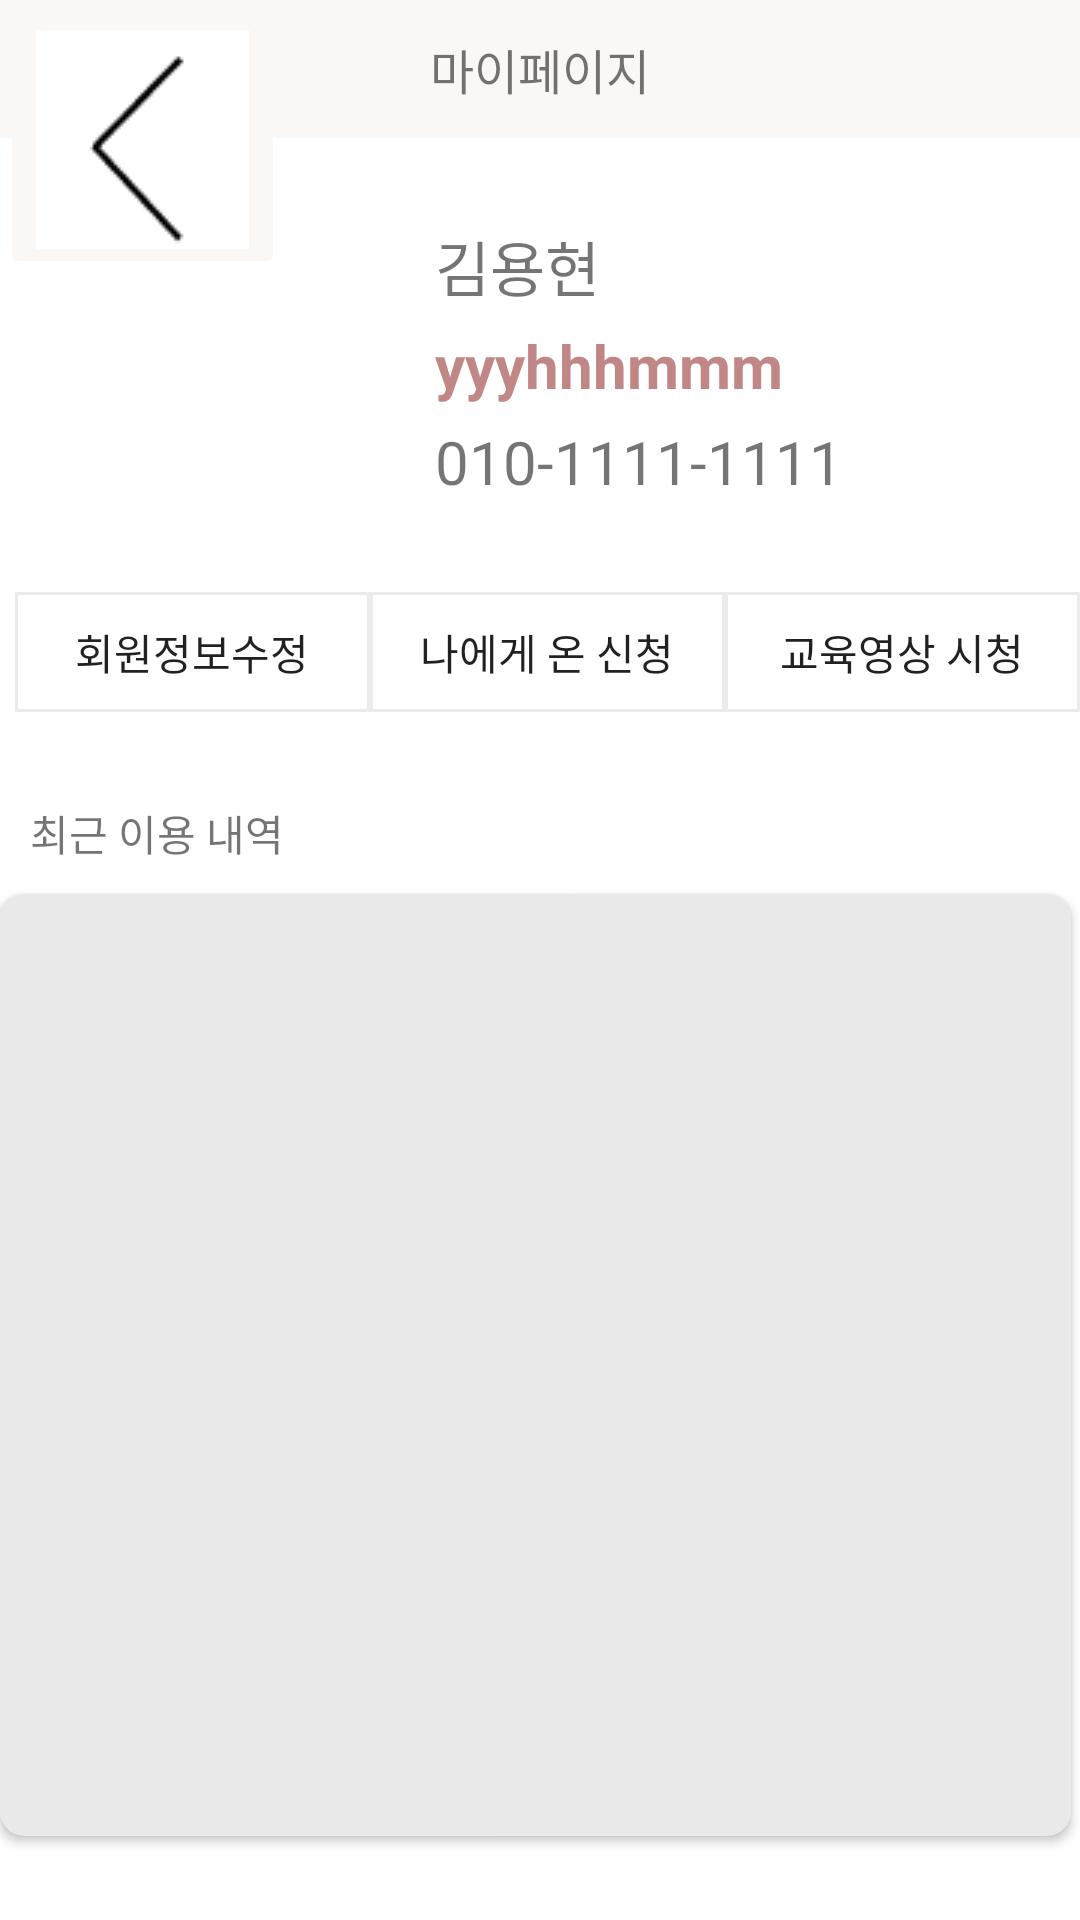

Where icons sit on this 1080 x 1920 app screen, as (x1, y1, x2, y2):
arrow: (90, 56, 184, 242)
